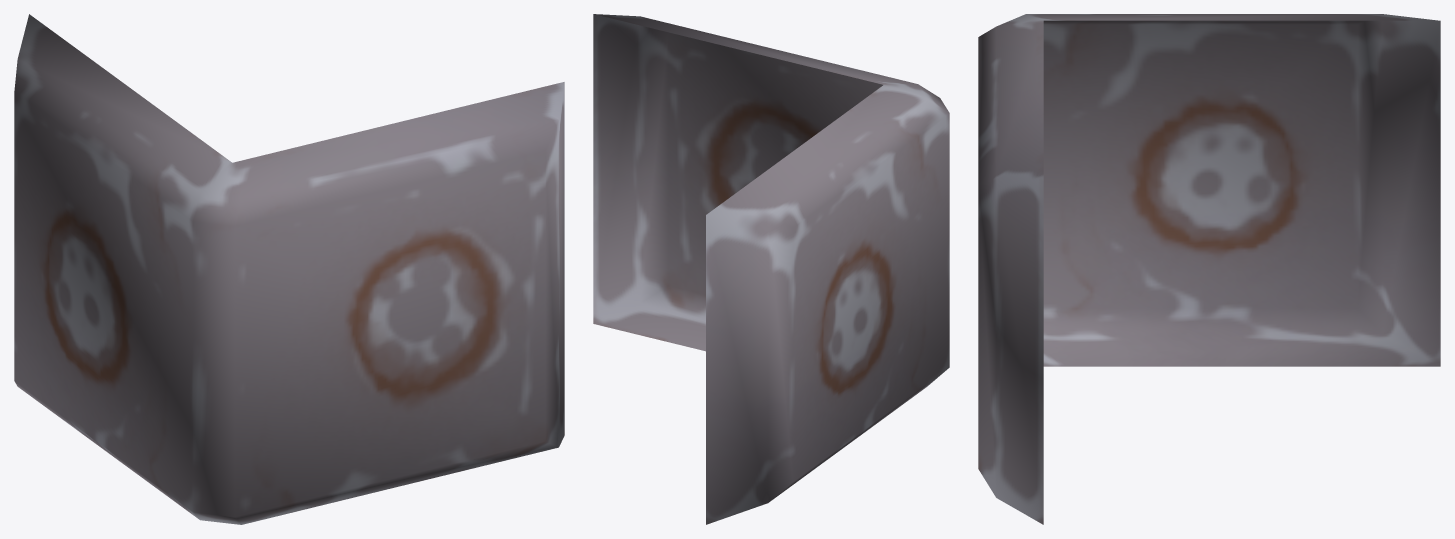
File: Parts_Corner_90.fbx
3 renders of one model, left to right at view 1: azimuth 30°, elevation 25°; view 2: azimuth 150°, elevation 25°; view 3: azimuth 270°, elevation 25°, orthographic. The views are drawn at different scales.
Parts seen in each view (by area): view 1: Parts_Corner_90; view 2: Parts_Corner_90; view 3: Parts_Corner_90.
Part boxes in pixels (x1=…): Parts_Corner_90: x1=14, y1=14, x2=564, y2=524; Parts_Corner_90: x1=593, y1=14, x2=949, y2=524; Parts_Corner_90: x1=978, y1=14, x2=1440, y2=524.
Bounding box in the file's own units: 14.34 × 12.46 × 15.11.
